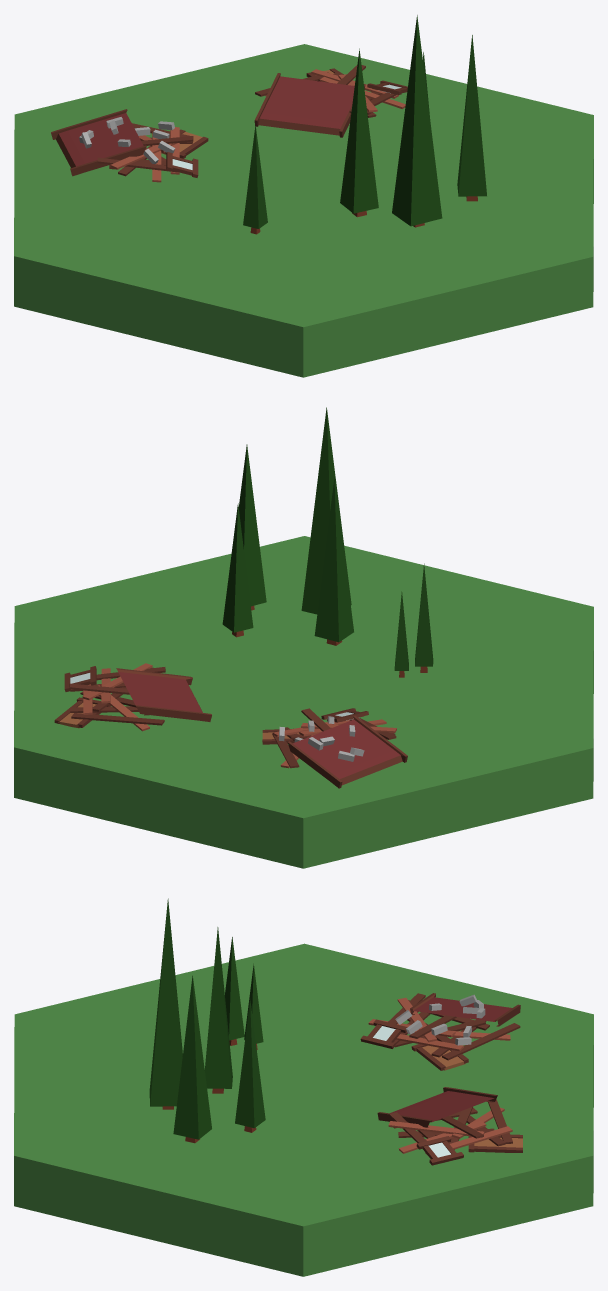
File: Planet_VillageBroken_Hexagon.fbx
3 renders of one model, top to bottom at view 1: azimuth 30°, elevation 25°; view 2: azimuth 150°, elevation 25°; view 3: azimuth 270°, elevation 25°, orthographic.
Visible parts, largest first — view 1: polySurface5, pCube108 (×2), pCube1, pCube5, pCube4, pCube11; view 2: polySurface5, pCube108 (×2), pCube5, pCube1, pCube4, pCube8, pCube11, pCube9; view 3: polySurface5, pCube1, pCube108 (×2), pCube4, pCube5, pCube8, pCube11, pCube9, pCube135, pCube139.
Part boxes in pixels (x1,y1,x2,y2): polySurface5: (14, 44, 593, 377); pCube108 (×2): (51, 73, 365, 176); pCube1: (392, 15, 442, 226); pCube5: (340, 48, 378, 213); pCube4: (457, 35, 486, 196); pCube11: (243, 125, 267, 228); polySurface5: (14, 536, 593, 868); pCube108 (×2): (116, 668, 407, 788); pCube5: (314, 477, 353, 642); pCube1: (301, 407, 351, 614); pCube4: (238, 444, 266, 606); pCube8: (222, 503, 253, 632); pCube11: (415, 563, 433, 666); pCube9: (394, 591, 408, 670); polySurface5: (14, 943, 593, 1276); pCube1: (149, 898, 182, 1106); pCube108 (×2): (377, 993, 520, 1127); pCube4: (173, 975, 211, 1139); pCube5: (204, 927, 232, 1088); pCube8: (235, 998, 265, 1128); pCube11: (225, 937, 244, 1040); pCube9: (244, 963, 263, 1043); pCube135: (442, 1023, 520, 1060); pCube139: (388, 1121, 484, 1137).
Bounding box in the file's own units: 6.28 × 2.7 × 5.44.
